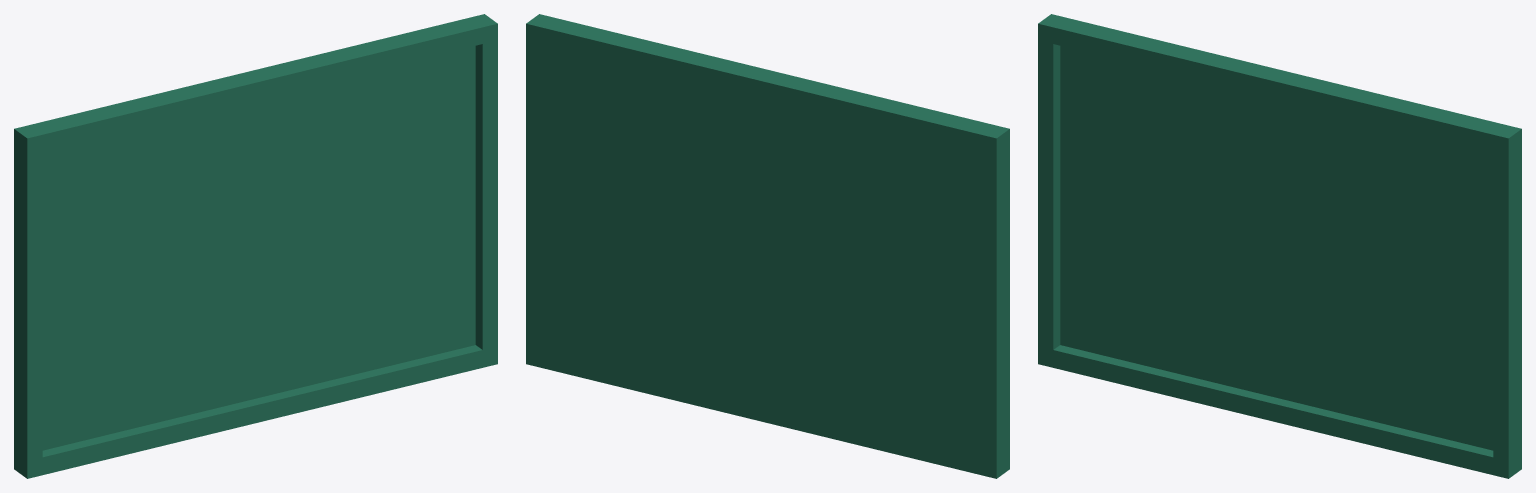
The model's file is Envy_scoreBoard.fbx.
The picture shows the model from 3 angles, left to right: view 1: azimuth 30°, elevation 25°; view 2: azimuth 150°, elevation 25°; view 3: azimuth 330°, elevation 25°; orthographic projection.
Parts seen in each view (by area): view 1: Score_Board; view 2: Score_Board; view 3: Score_Board.
Part boxes in pixels (x1,y1,x2,y2): Score_Board: [14, 14, 497, 478]; Score_Board: [526, 14, 1009, 478]; Score_Board: [1038, 14, 1521, 478].
Size of the model in its own units: 3.96 by 2.74 by 0.1926.
